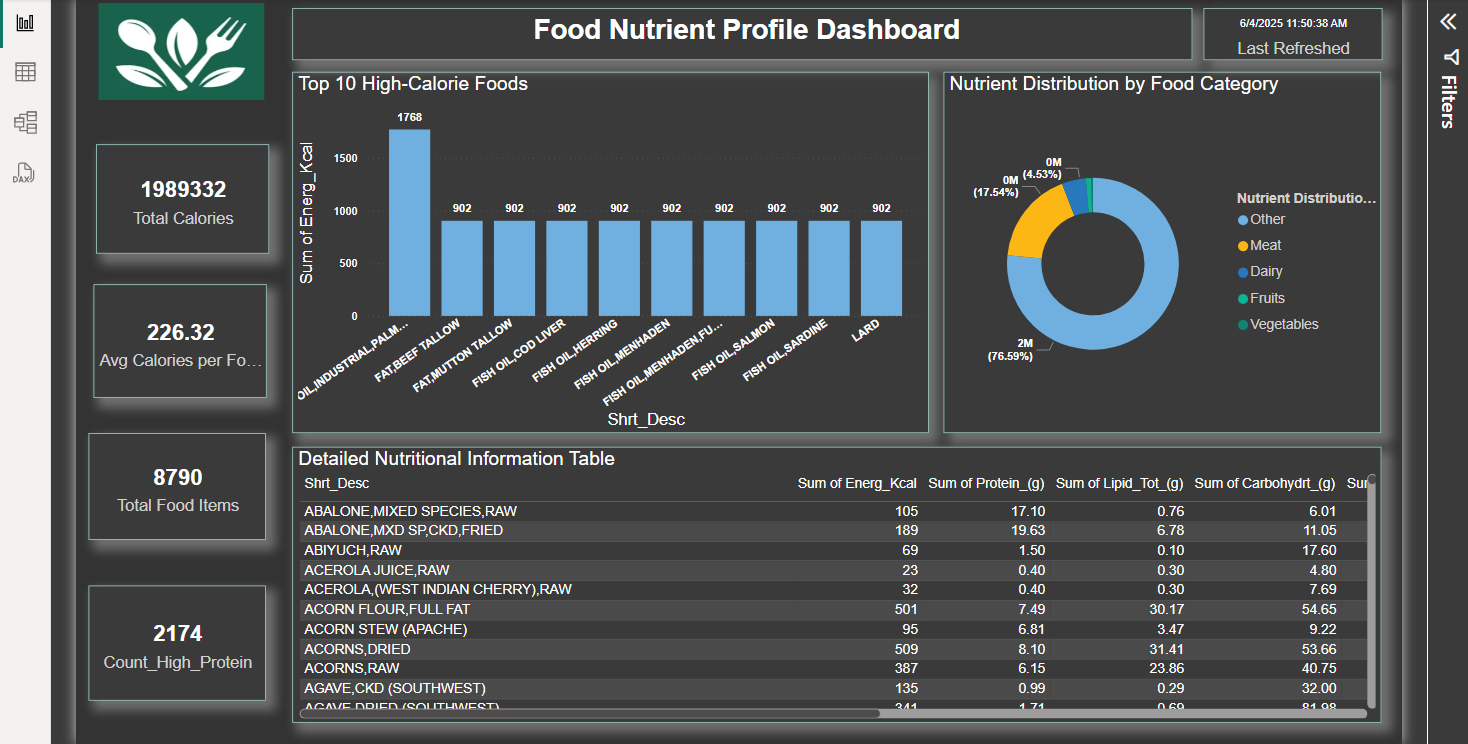

What the dashboard file says about the page in this screenshot:
{"tool":"powerbi","page":{"name":"Food Nutrient","canvas":[1280,720],"ordinal":0},"visuals":[{"type":"columnChart","title":"Top 10 High-Calorie Foods ","fields":{"Category":["Nutritions_US.Shrt_Desc"],"Y":["Sum(Nutritions_US.Energ_Kcal)"]},"box":[208.7,71.2,614.1,348.7],"z":0},{"type":"textbox","title":"Food Nutrient Profile Dashboard","box":[208.6,9.6,868.6,50.8],"z":1000},{"type":"donutChart","title":"Nutrient Distribution by Food Category","fields":{"Category":["Nutritions_US.Food_Category"],"Y":["Sum(Nutritions_US.Energ_Kcal)"]},"box":[837.3,71.2,422.3,348.7],"z":2000},{"type":"tableEx","title":"Detailed Nutritional Information Table","fields":{"Values":["Nutritions_US.Shrt_Desc","Sum(Nutritions_US.Energ_Kcal)","Sum(Nutritions_US.Protein_(g))","Sum(Nutritions_US.Lipid_Tot_(g))","Sum(Nutritions_US.Carbohydrt_(g))","Sum(Nutritions_US.Calcium_(mg))","Sum(Nutritions_US.Iron_(mg))","Sum(Nutritions_US.Sodium_(mg))","Sum(Nutritions_US.Potassium_(mg))","Sum(Nutritions_US.Vit_A_IU)","Sum(Nutritions_US.Vit_C_(mg))","Sum(Nutritions_US.Vit_D_IU)"]},"box":[208.6,433.6,1051.1,266.2],"z":3000},{"type":"card","fields":{"Values":["Nutritions_US.Last Refreshed"]},"box":[1087.8,9.6,172.5,50.7],"z":4000},{"type":"card","title":"Total Calories","fields":{"Values":["Sum(Nutritions_US.Energ_Kcal)"]},"box":[19.2,141.2,167.3,105.6],"z":5000},{"type":"card","fields":{"Values":["Avg(Nutritions_US.Energ_Kcal)"]},"box":[16.5,275.8,167.4,109.8],"z":6000},{"type":"card","fields":{"Values":["CountNonNull(Nutritions_US.Shrt_Desc)"]},"box":[12.3,419.9,171.5,102.9],"z":7000},{"type":"image","box":[16.9,0,170.1,103.8],"z":8000},{"type":"card","fields":{"Values":["Nutritions_US.Count_High_Protein"]},"box":[12.1,567,171.3,111],"z":9000}]}

Visuals, with their boxes on the page's 1280x720 design canvas (x1, y1, x2, y2). These are canvas units, not pixel positions in the 1468x744 screenshot, which may show the page scaled, cropped or inside an application window:
"Top 10 High-Calorie Foods " columnChart: [left=209, top=71, right=823, bottom=420]
"Food Nutrient Profile Dashboard" textbox: [left=209, top=10, right=1077, bottom=60]
"Nutrient Distribution by Food Category" donutChart: [left=837, top=71, right=1260, bottom=420]
"Detailed Nutritional Information Table" tableEx: [left=209, top=434, right=1260, bottom=700]
card - Nutritions_US.Last Refreshed: [left=1088, top=10, right=1260, bottom=60]
"Total Calories" card: [left=19, top=141, right=186, bottom=247]
card - Avg(Nutritions_US.Energ_Kcal): [left=16, top=276, right=184, bottom=386]
card - CountNonNull(Nutritions_US.Shrt_Desc): [left=12, top=420, right=184, bottom=523]
image: [left=17, top=0, right=187, bottom=104]
card - Nutritions_US.Count_High_Protein: [left=12, top=567, right=183, bottom=678]
